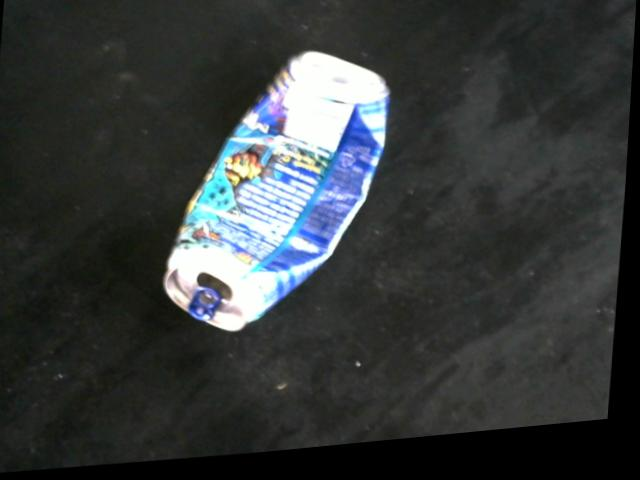can: (169, 56, 390, 340)
